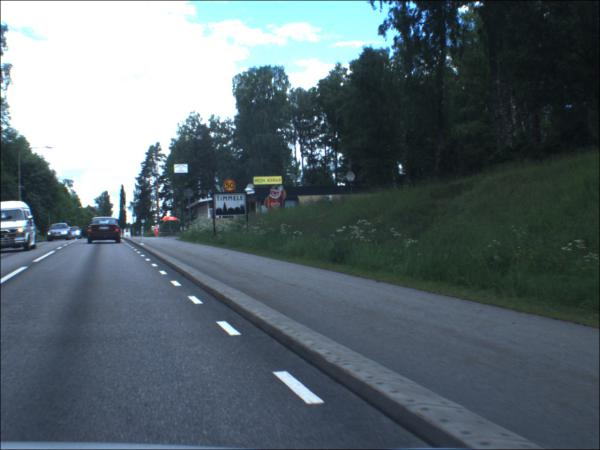50_SIGN: (226, 181, 238, 194)
